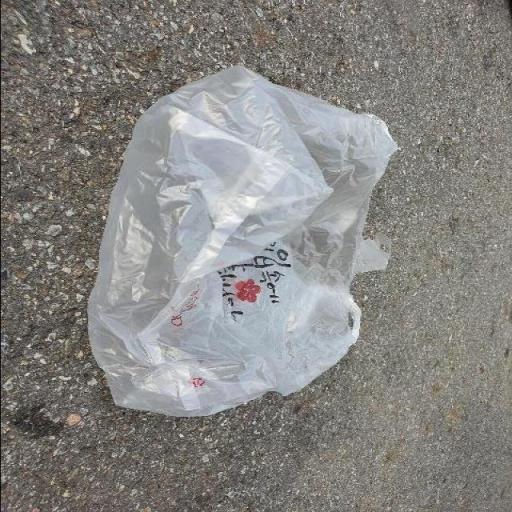plastic-bag: (83, 62, 403, 420)
